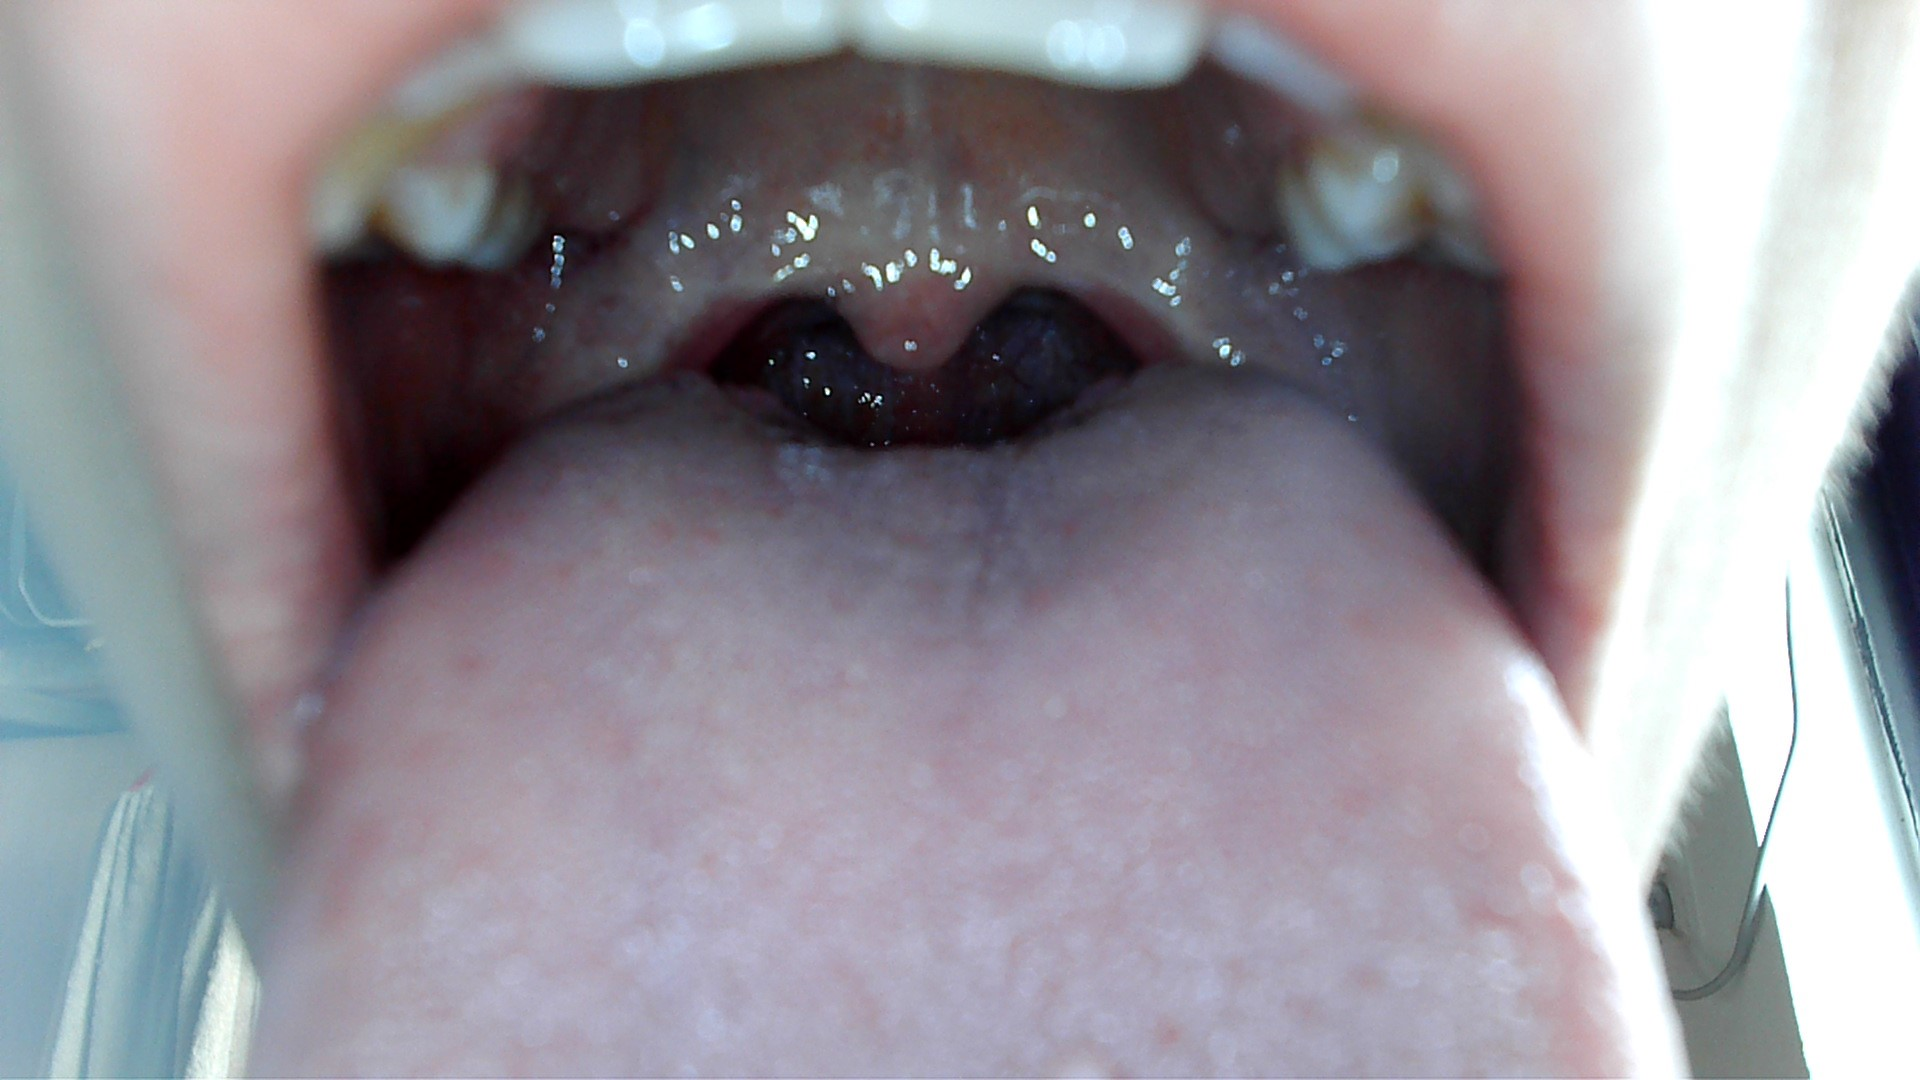throat: (530, 260, 750, 384), (1087, 236, 1222, 364)
